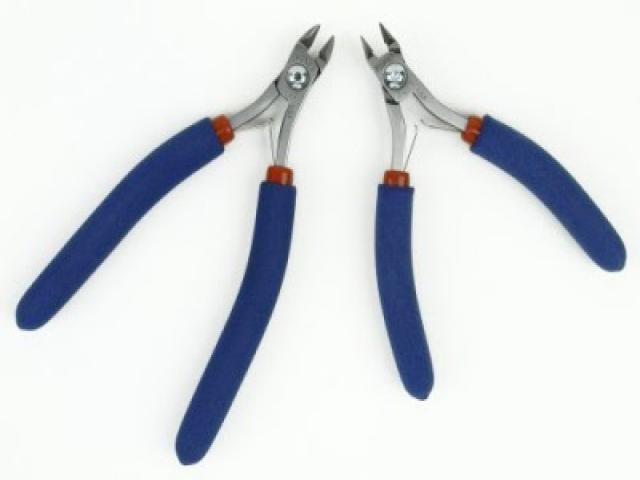Cutting pliers: (18, 26, 334, 463), (361, 24, 622, 399)
